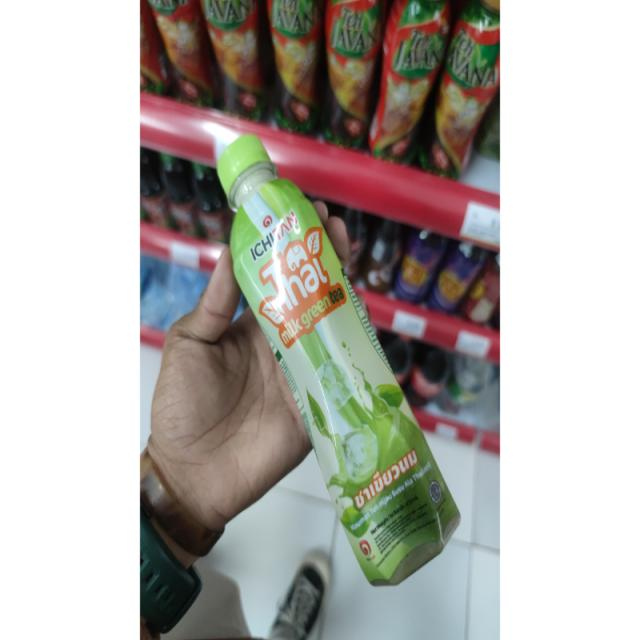botol: (179, 127, 483, 617)
